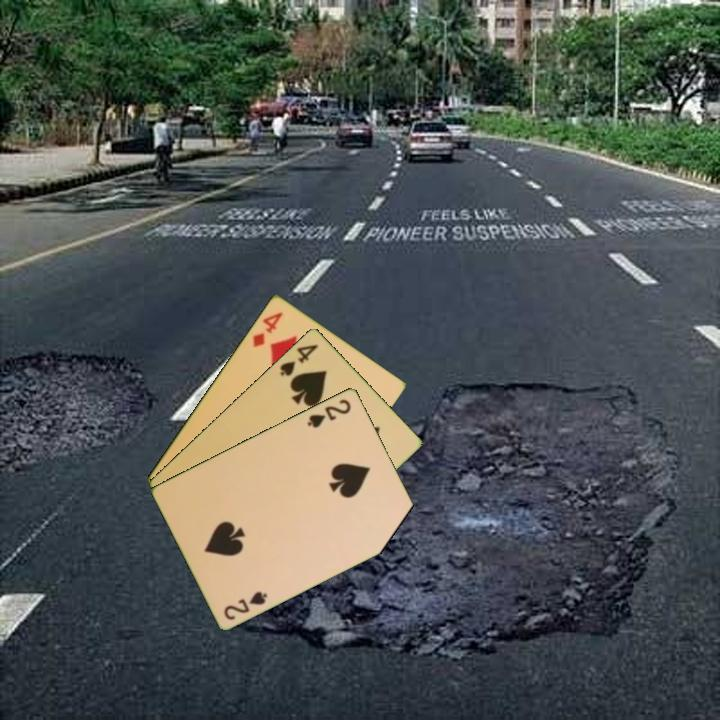2s: (304, 395, 354, 431), (220, 587, 270, 623)
4d: (249, 308, 286, 350)
4s: (276, 340, 321, 379)
